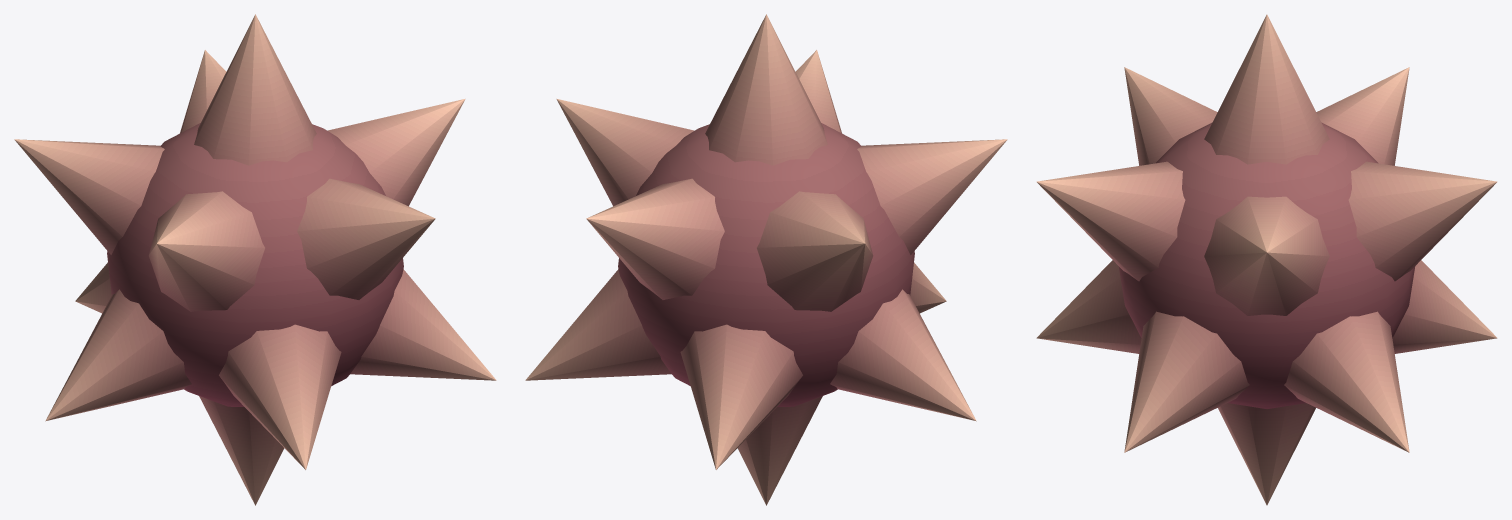
Rendered from atomFEnemy.obj.
The picture shows the model from 3 angles, left to right: view 1: azimuth 30°, elevation 25°; view 2: azimuth 150°, elevation 25°; view 3: azimuth 270°, elevation 25°; orthographic projection.
Visible parts, largest first — view 1: atomFEnemy; view 2: atomFEnemy; view 3: atomFEnemy.
Part boxes in pixels (<box>): atomFEnemy: <box>14,14,496,505</box>; atomFEnemy: <box>525,14,1007,505</box>; atomFEnemy: <box>1036,14,1497,505</box>.
Size of the model in its own units: 1.79 by 2 by 1.7.
1 material, 1 textured.
